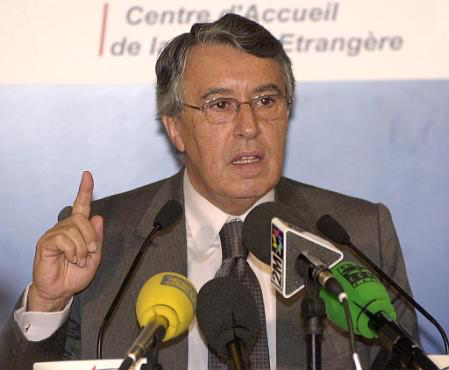Face: (192, 61, 291, 202)
